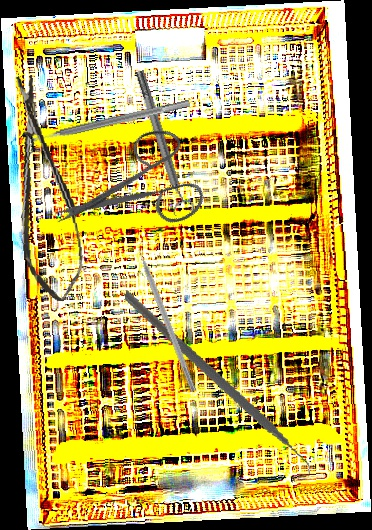Chopper: (95, 289, 338, 490), (132, 234, 205, 393)
Fixation Ring: (21, 89, 193, 158), (129, 67, 196, 217)
Iris Scissors: (49, 101, 226, 283)
Micro Scissor: (2, 71, 88, 305)
